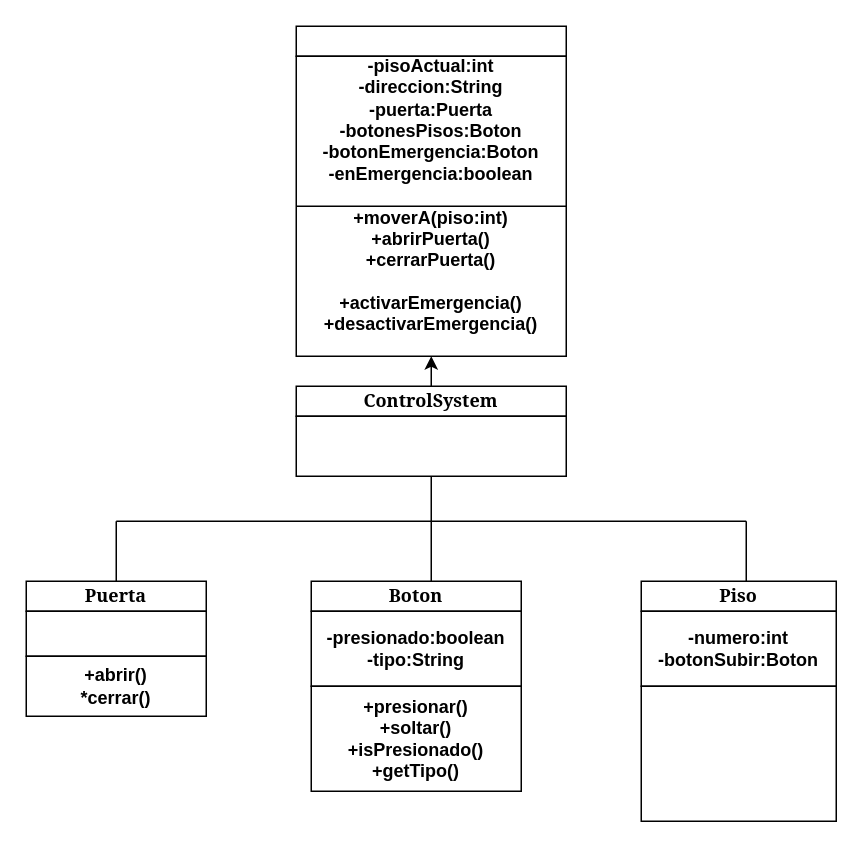
Image size: 863x848. Some labels were removed from this diagram. Each missing label, with the centre of its shape:
"+presionar- Subir():void +presionar- Bajar():void" belongs at point (738, 753).
"-abierta:boolean" belongs at point (115, 633).
"-opcion:int +main():void" belongs at point (430, 445).
"Ascensor" belongs at point (430, 40).
